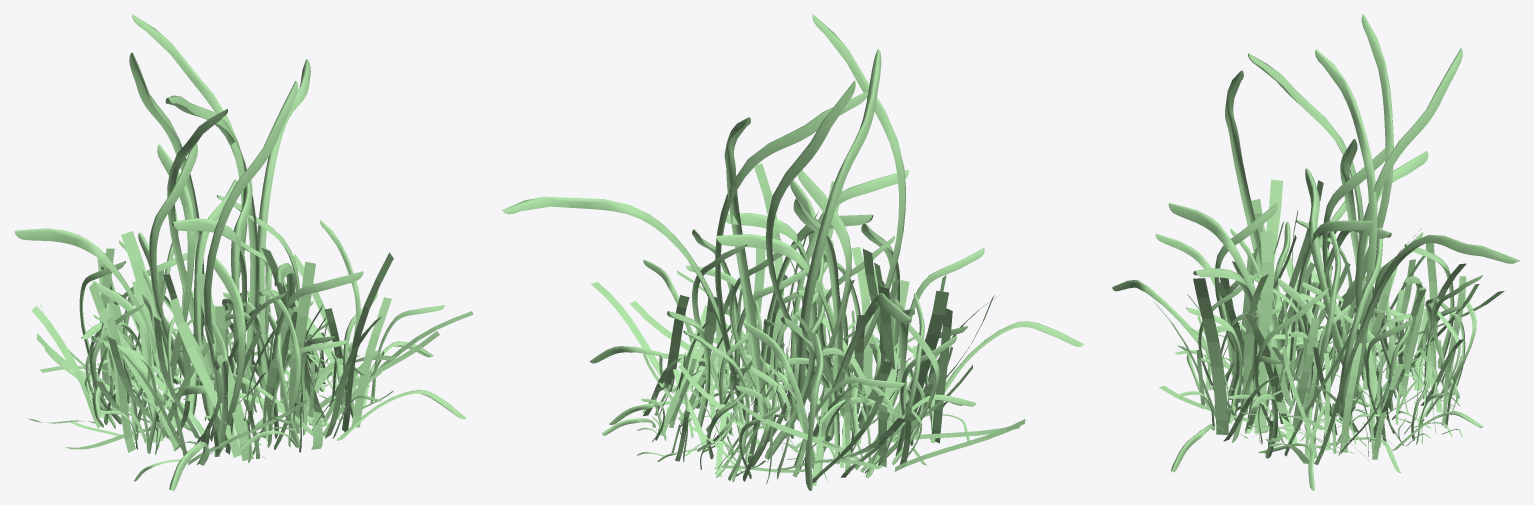
3 renders of one model, left to right at view 1: azimuth 30°, elevation 25°; view 2: azimuth 150°, elevation 25°; view 3: azimuth 270°, elevation 25°, orthographic. The views are drawn at different scales.
Parts seen in each view (by area): view 1: GS Grass Wild Clump Dry 01; view 2: GS Grass Wild Clump Dry 01; view 3: GS Grass Wild Clump Dry 01.
Boxes of the visible parts, x1=… form: GS Grass Wild Clump Dry 01: x1=14, y1=14, x2=473, y2=490; GS Grass Wild Clump Dry 01: x1=502, y1=14, x2=1083, y2=490; GS Grass Wild Clump Dry 01: x1=1112, y1=14, x2=1519, y2=490.
Size of the model in its own units: 0.8323 by 0.6947 by 0.7.
